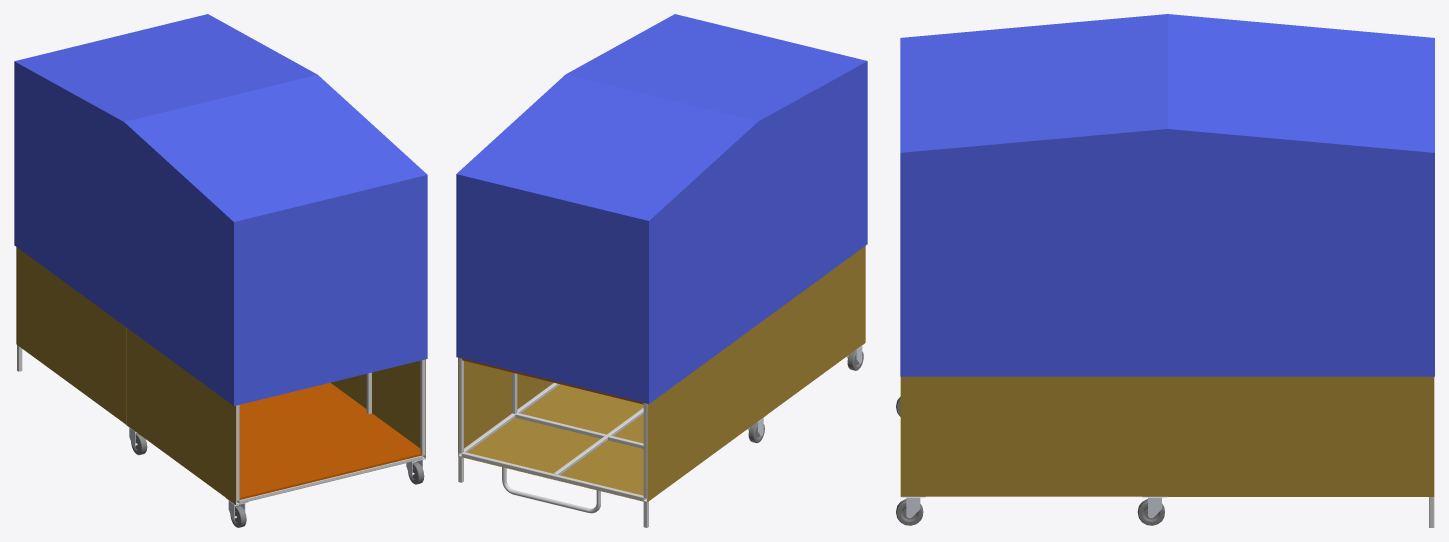
Rendered from REFUGIO_URBANO.glb.
3 renders of one model, left to right at view 1: azimuth 30°, elevation 25°; view 2: azimuth 150°, elevation 25°; view 3: azimuth 270°, elevation 25°, orthographic. The views are drawn at different scales.
Visible parts, largest first — view 1: Solid1:105, Solid1:32, Solid1:65, Solid1:33, Solid1:35, Solid1:11, Solid1:14; view 2: Solid1:105, Solid1:68, Solid1:65, Solid1:33, Solid1:67, Solid1:50, Solid1:51, Solid1:49, Solid1:52, Solid1:55; view 3: Solid1:105, Solid1:35, Solid1:67.
Part boxes in pixels (box(x1,y1,x2,y2)): Solid1:105: box(14, 14, 427, 405); Solid1:32: box(239, 382, 422, 499); Solid1:65: box(16, 247, 126, 424); Solid1:33: box(126, 327, 235, 504); Solid1:35: box(331, 359, 425, 454); Solid1:11: box(239, 455, 422, 503); Solid1:14: box(420, 359, 425, 455); Solid1:105: box(456, 14, 867, 403); Solid1:68: box(458, 384, 645, 502); Solid1:65: box(647, 325, 756, 501); Solid1:33: box(756, 246, 865, 421); Solid1:67: box(458, 357, 553, 455); Solid1:50: box(462, 452, 643, 500); Solid1:51: box(515, 413, 643, 448); Solid1:49: box(458, 383, 560, 456); Solid1:52: box(553, 407, 643, 475); Solid1:55: box(458, 358, 463, 452); Solid1:105: box(900, 14, 1434, 376); Solid1:35: box(900, 376, 1167, 496); Solid1:67: box(1167, 376, 1434, 496).
Size of the model in its own units: 1.02 by 1.66 by 2.02.
